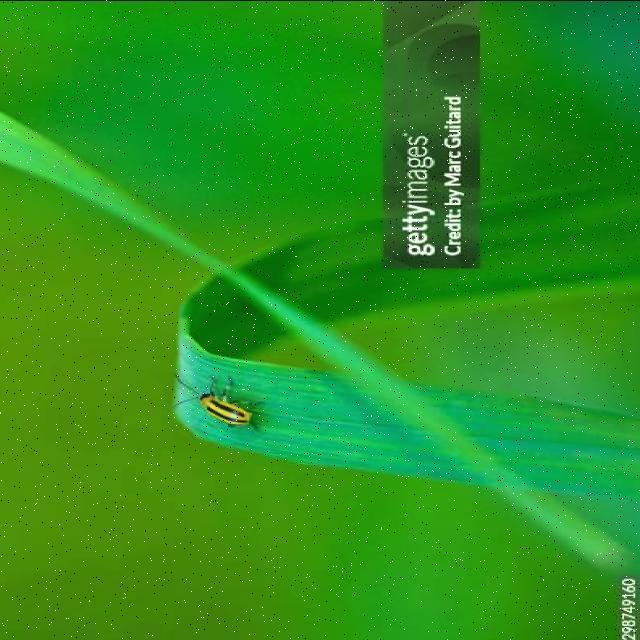trips: (170, 371, 274, 438)
